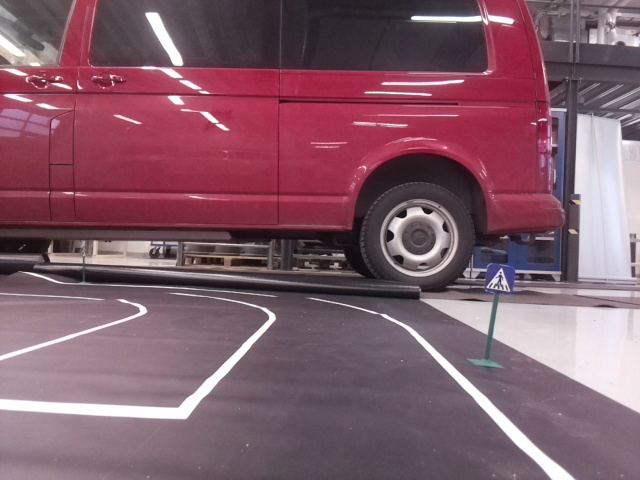Crosswalk: (486, 263, 512, 292)
